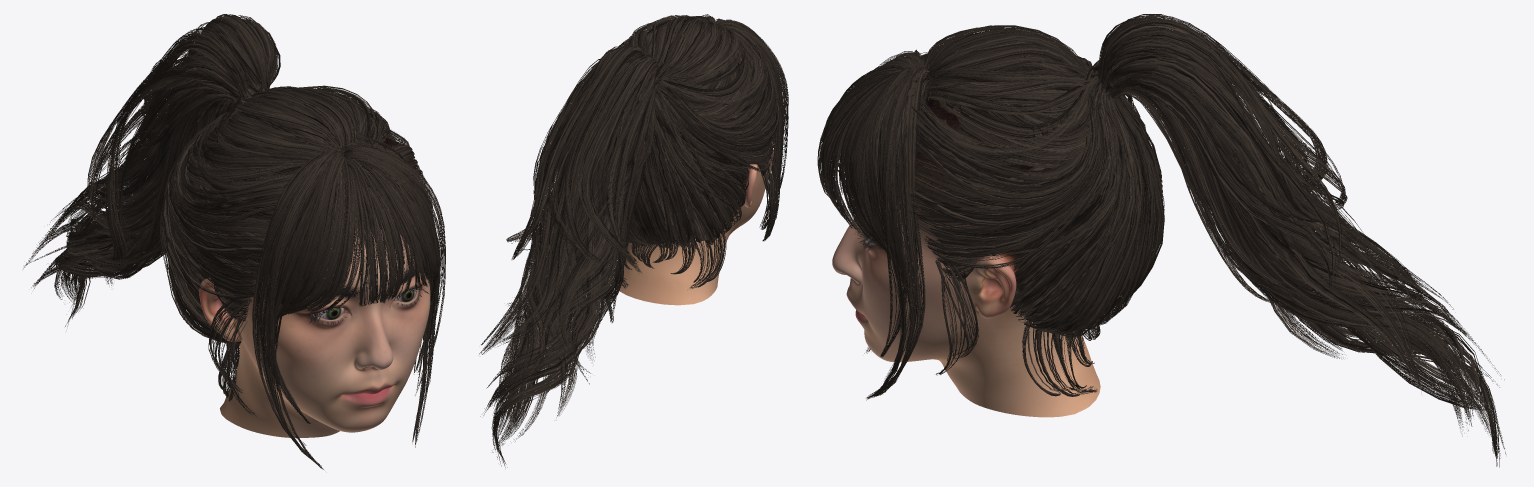
Rendered from head-detailed-small-optimized.glb.
3 views of the same model, side by side, from view 1: azimuth 30°, elevation 25°; view 2: azimuth 150°, elevation 25°; view 3: azimuth 270°, elevation 25° (orthographic). The views are drawn at different scales.
Parts seen in each view (by area): view 1: Castell_Hinako_Hair, Castell_Hinako_Head, Castell_Hinako_Lashes; view 2: Castell_Hinako_Hair, Castell_Hinako_Head; view 3: Castell_Hinako_Hair, Castell_Hinako_Head.
Boxes of the visible parts, x1,y1,x2,y2 form: Castell_Hinako_Hair: (23, 14, 445, 469); Castell_Hinako_Head: (199, 121, 430, 437); Castell_Hinako_Lashes: (309, 265, 428, 324); Castell_Hinako_Hair: (479, 14, 788, 467); Castell_Hinako_Head: (617, 50, 773, 305); Castell_Hinako_Hair: (817, 14, 1506, 467); Castell_Hinako_Head: (832, 61, 1100, 417).
Size of the model in its own units: 0.2074 by 0.3823 by 0.533.
Materials: 4 (4 with a texture image).
